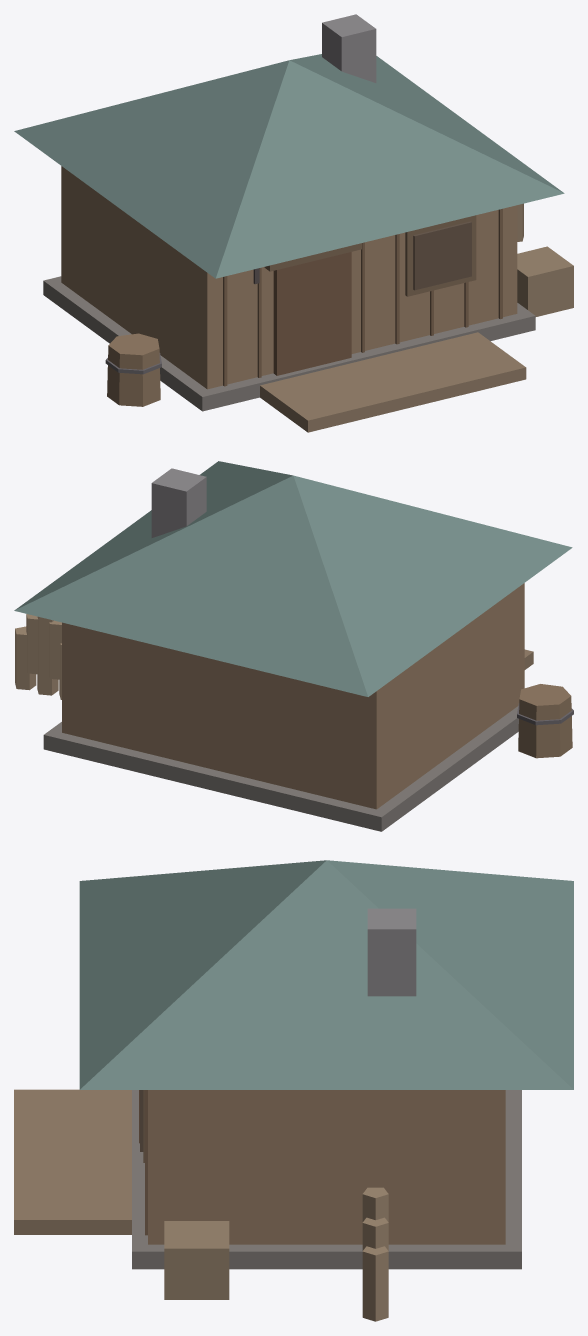
The model's file is prop_shed.glb.
The picture shows the model from 3 angles, top to bottom: view 1: azimuth 30°, elevation 25°; view 2: azimuth 150°, elevation 25°; view 3: azimuth 270°, elevation 25°; orthographic projection. The views are drawn at different scales.
Parts seen in each view (by area): view 1: body; view 2: body; view 3: body.
Part boxes in pixels (<box>): body: <box>14,14,573,432</box>; body: <box>14,461,573,831</box>; body: <box>14,860,573,1321</box>.
Size of the model in its own units: 8.33 by 4.2 by 6.89.
